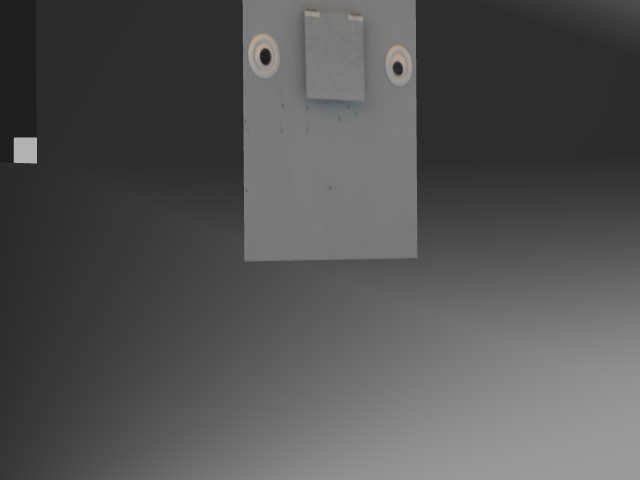facade: (247, 5, 413, 104)
